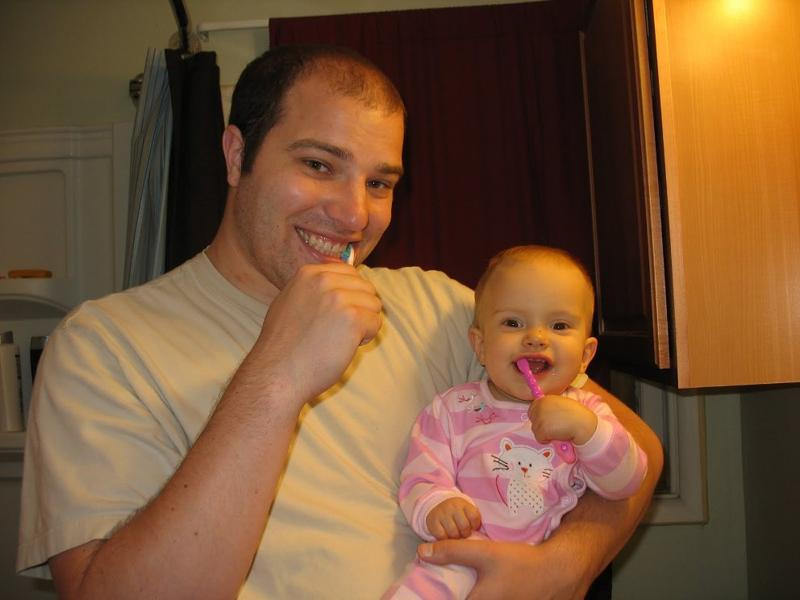person: (23, 36, 674, 600)
